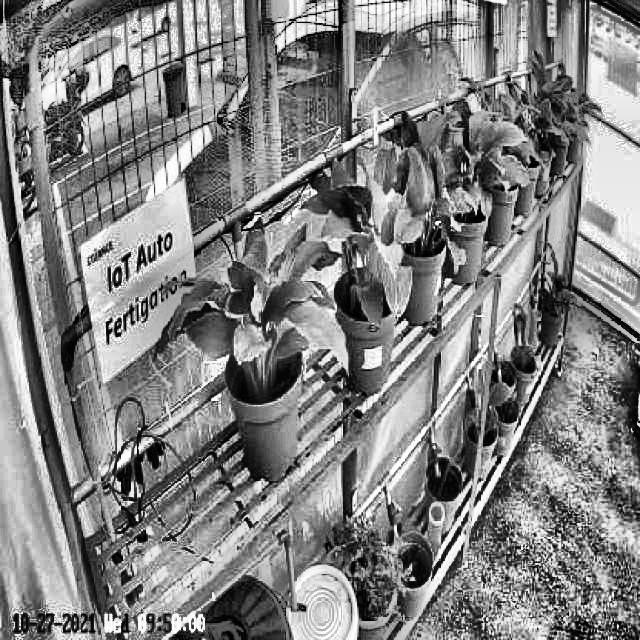plants: (154, 219, 348, 395), (308, 160, 412, 329), (370, 108, 468, 286)
